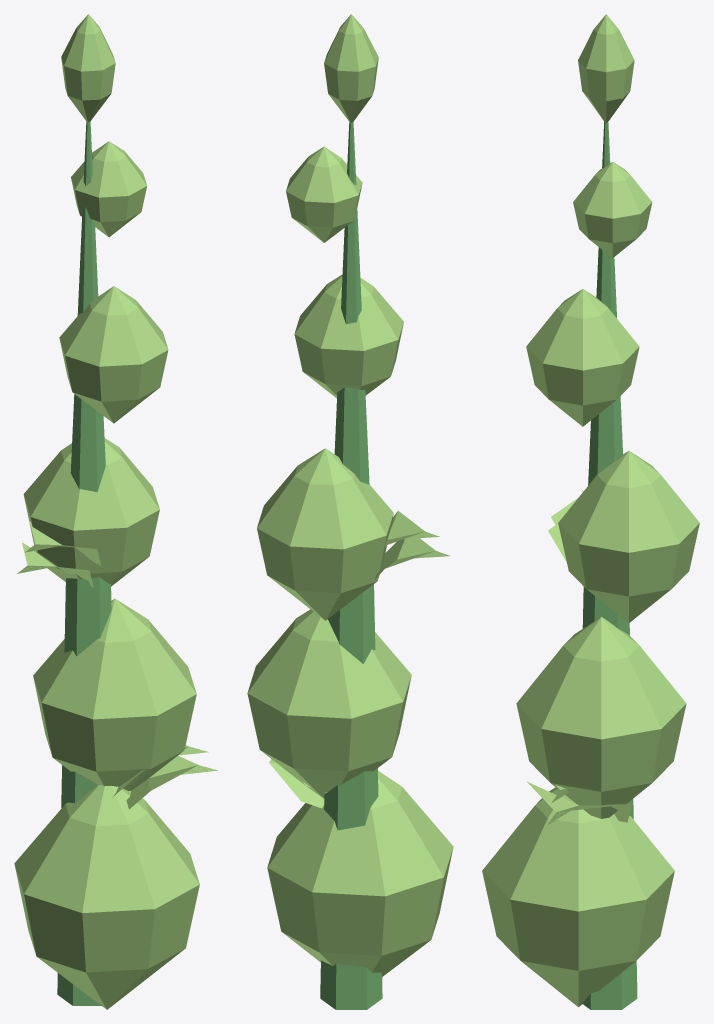
File: flower.glb
3 views of the same model, side by side, from view 1: azimuth 30°, elevation 25°; view 2: azimuth 150°, elevation 25°; view 3: azimuth 270°, elevation 25° (orthographic).
Visible parts, largest first — view 1: 穗; view 2: 穗; view 3: 穗.
Part boxes in pixels (box(x1,y1,x2,y2)): 穗: box(14, 14, 217, 1009); 穗: box(247, 14, 453, 1009); 穗: box(482, 14, 699, 1009).
Bounding box in the file's own units: 0.0761 × 0.3855 × 0.0768.
